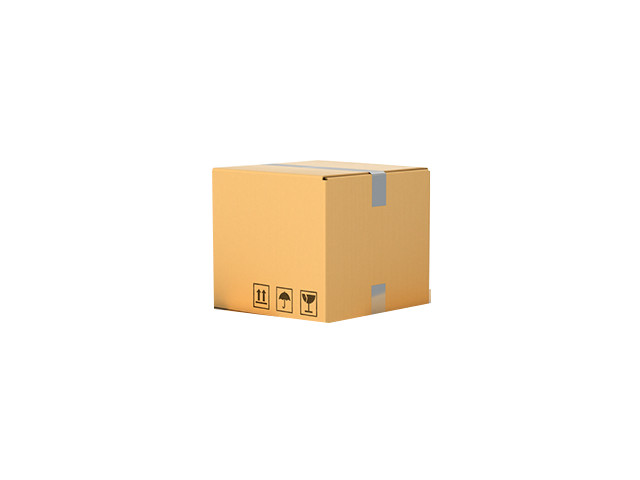cardboard: (216, 166, 421, 321)
